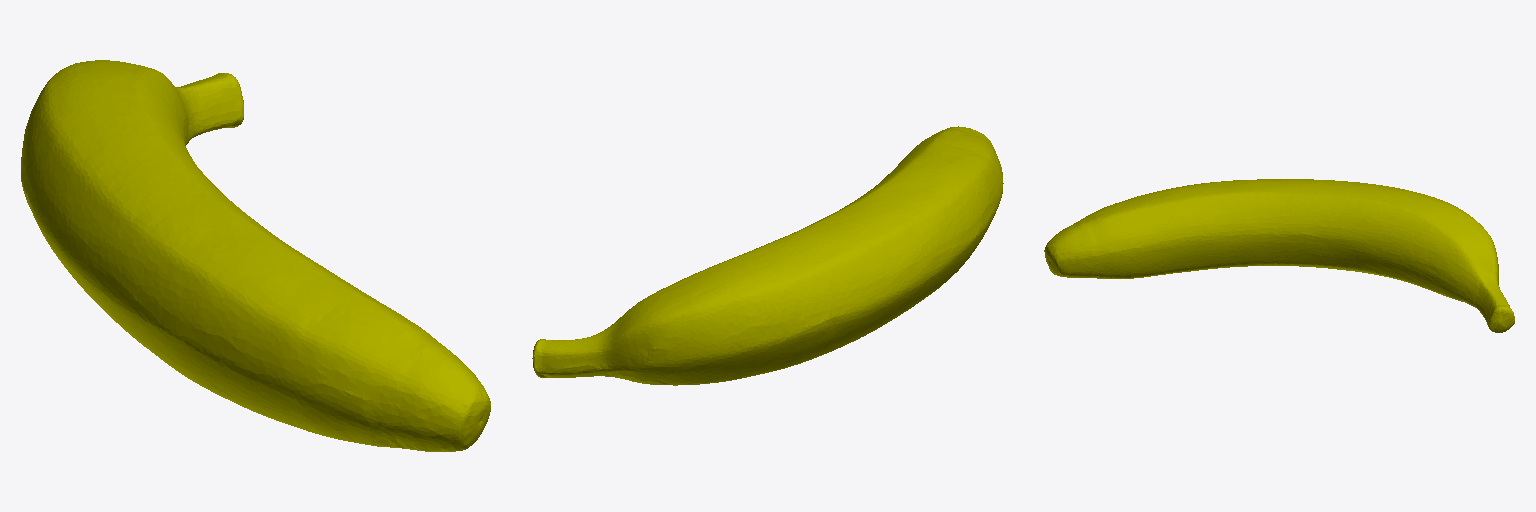
The robot description file, URDF, robot "banana":
<?xml version="1.0"?>
<robot name="banana">
  <link name="banana">
    <visual>
      <origin xyz="0.0 0.0 0.0"/>
      <geometry>
        <mesh filename="textured.obj" scale="1 1 1"/>
      </geometry>
      <material name="banana">
        <color rgba="0.7 0.7 0.0 1.0"/>
      </material>
    </visual>
    <collision>
      <origin xyz="0.0 0.0 0.0"/>
      <geometry>
        <mesh filename="textured.obj" scale="1 1 1"/>
      </geometry>
    </collision>
    <inertial>
      <mass value="0.068"/>
      <inertia ixx="0.0001" ixy="0.0" ixz="0.0" iyy="0.0001" iyz="0.0" izz="0.0001"/>
    </inertial>
  </link>
</robot>

--- Facts derived from the render (not from the file) ---
The picture shows the robot from 3 angles, left to right: view 1: azimuth 30°, elevation 25°; view 2: azimuth 150°, elevation 25°; view 3: azimuth 270°, elevation 25°; orthographic projection.
Robot: banana — 1 links, 0 joints (none); root link banana; default pose: all joints at 0.
Visible links, largest first — view 1: banana; view 2: banana; view 3: banana.
Boxes of the visible links, x1,y1,x2,y2 form: banana: [21, 60, 490, 451]; banana: [532, 126, 1003, 385]; banana: [1044, 179, 1514, 332].
Size in the robot's own frame: 0.0872 by 0.1919 by 0.0367 metres.
Meshes: 1 distinct files referenced, 1 mesh visuals loaded (1 OBJ).